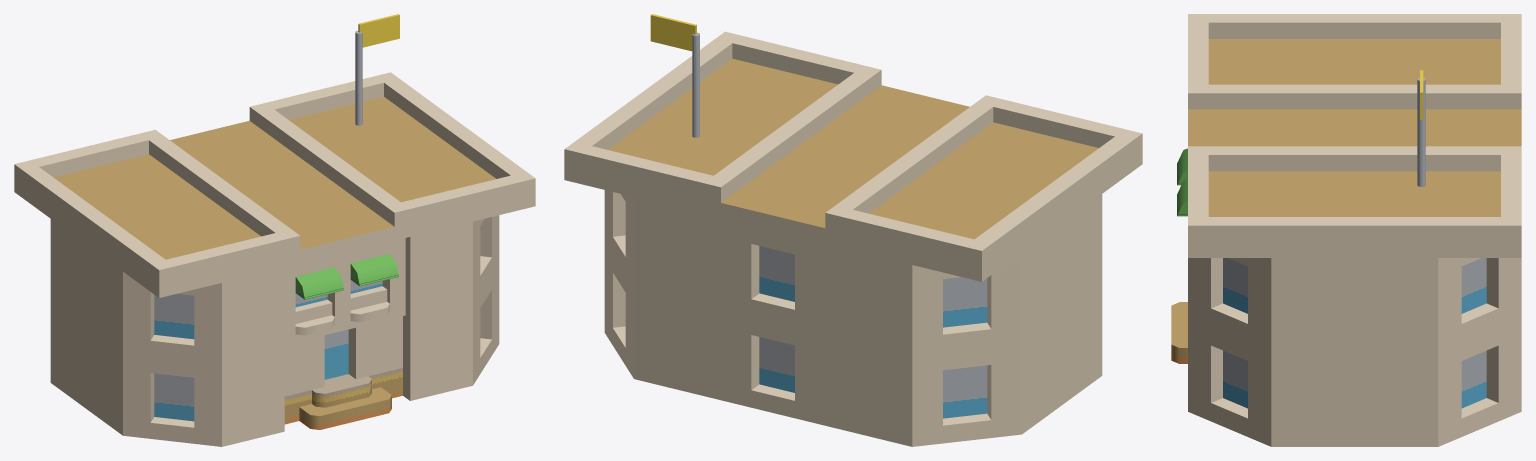
Rendered from school.glb.
3 renders of one model, left to right at view 1: azimuth 30°, elevation 25°; view 2: azimuth 150°, elevation 25°; view 3: azimuth 270°, elevation 25°, orthographic. The views are drawn at different scales.
Visible parts, largest first — view 1: school (×3); view 2: school (×3); view 3: school (×2).
Boxes of the visible parts, x1,y1,x2,y2 form: school (×3): (14, 14, 535, 446); school (×3): (564, 14, 1142, 446); school (×2): (1171, 14, 1521, 446).
Size of the model in its own units: 0.92 by 0.6777 by 0.644.
Materials: 3 (1 with a texture image).
